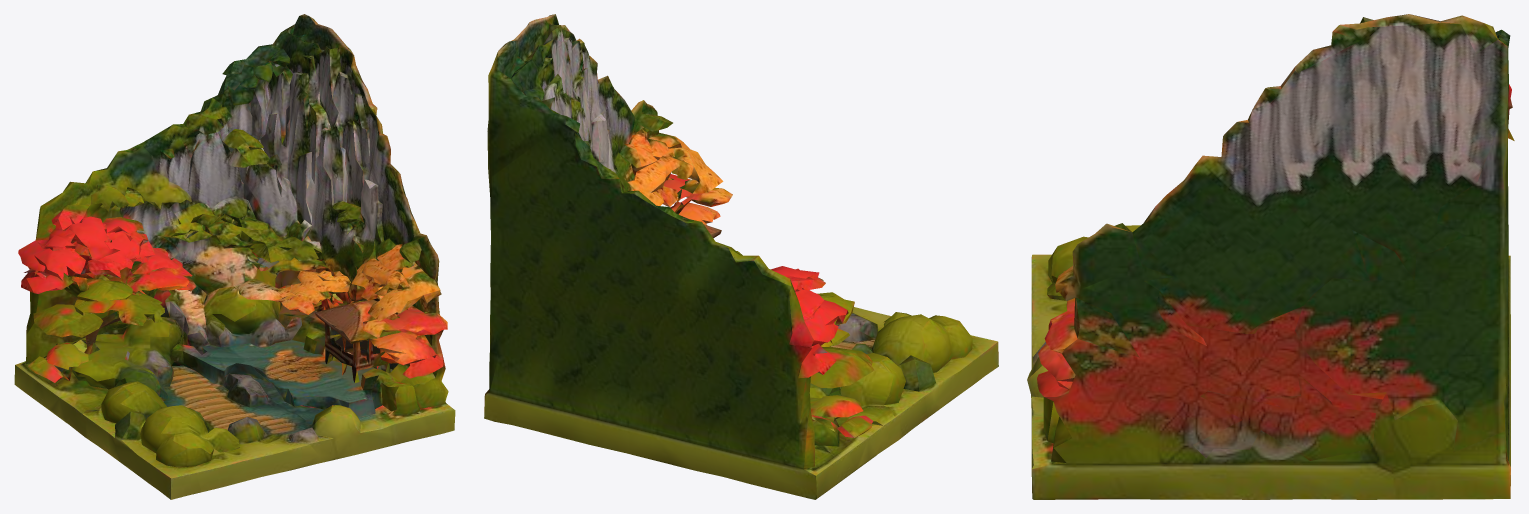
File: mifuneyama-rakuen.glb
The picture shows the model from 3 angles, left to right: view 1: azimuth 30°, elevation 25°; view 2: azimuth 150°, elevation 25°; view 3: azimuth 270°, elevation 25°; orthographic projection. The views are drawn at different scales.
Parts seen in each view (by area): view 1: logan-textured.obj; view 2: logan-textured.obj; view 3: logan-textured.obj.
Boxes of the visible parts, bbox=[...] form: logan-textured.obj: bbox=[14, 14, 455, 499]; logan-textured.obj: bbox=[484, 14, 998, 499]; logan-textured.obj: bbox=[1027, 14, 1514, 499].
Bounding box in the file's own units: 1 × 0.9999 × 0.9158.
Materials: 1 (1 with a texture image).
